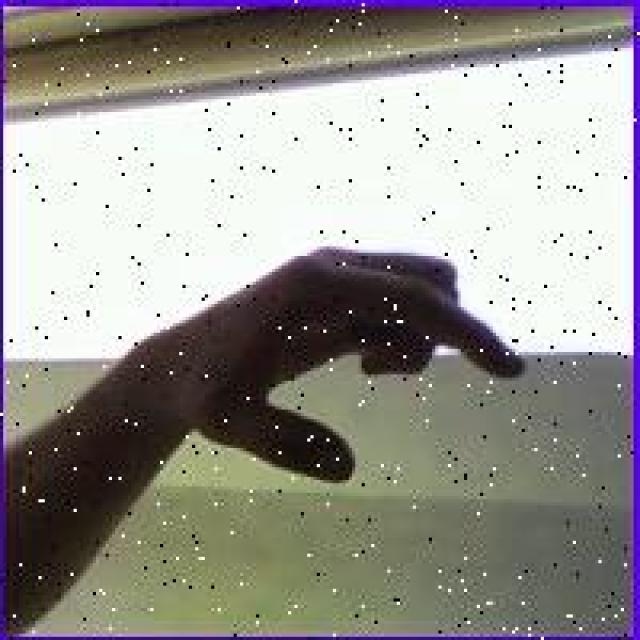Q: (180, 233, 534, 490)
